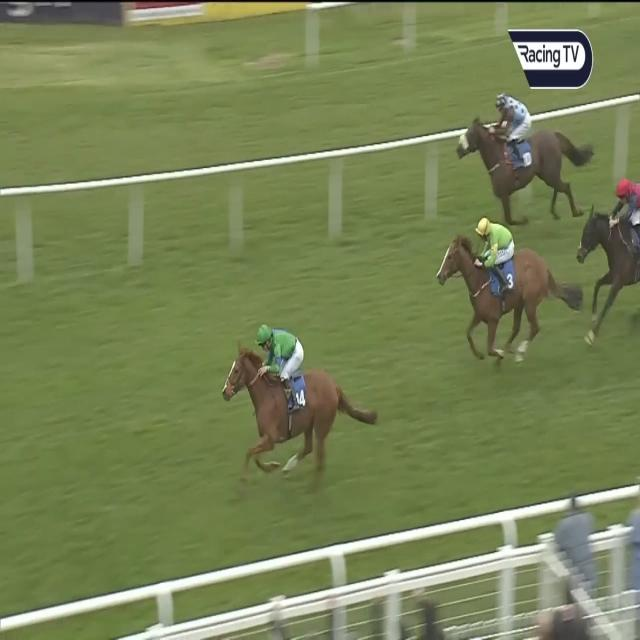horses-racing: (433, 215, 568, 355), (226, 322, 347, 478), (461, 90, 573, 206), (581, 180, 640, 342)
